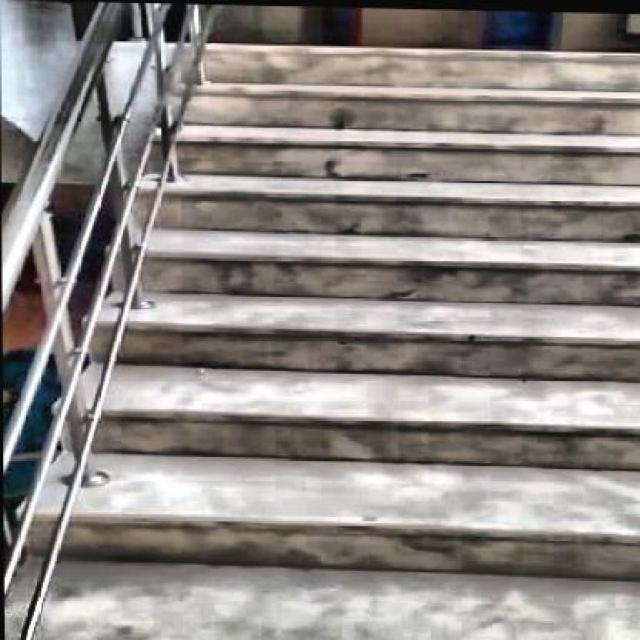stair: (60, 39, 638, 638)
